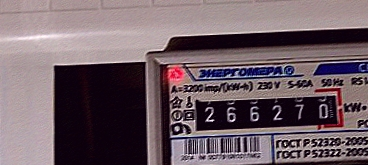0: (316, 103, 329, 120)
2: (201, 105, 215, 124), (270, 104, 282, 122)
6: (224, 105, 237, 124), (247, 105, 260, 124)
7: (293, 103, 305, 121)
screen: (183, 85, 348, 141)
